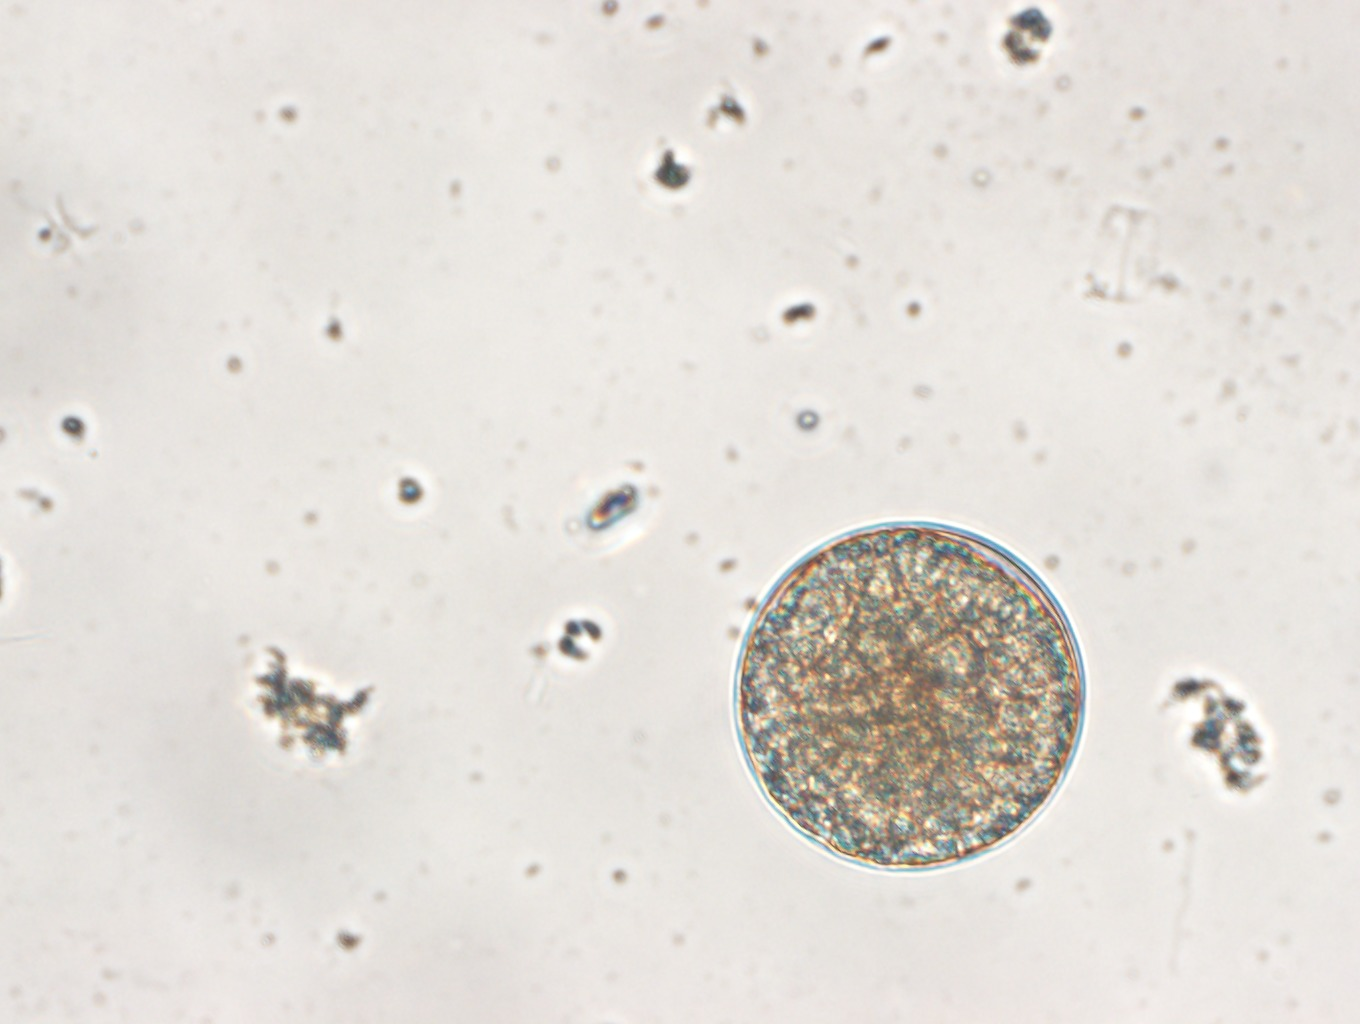coscinodiscus: (726, 516, 1093, 877)
